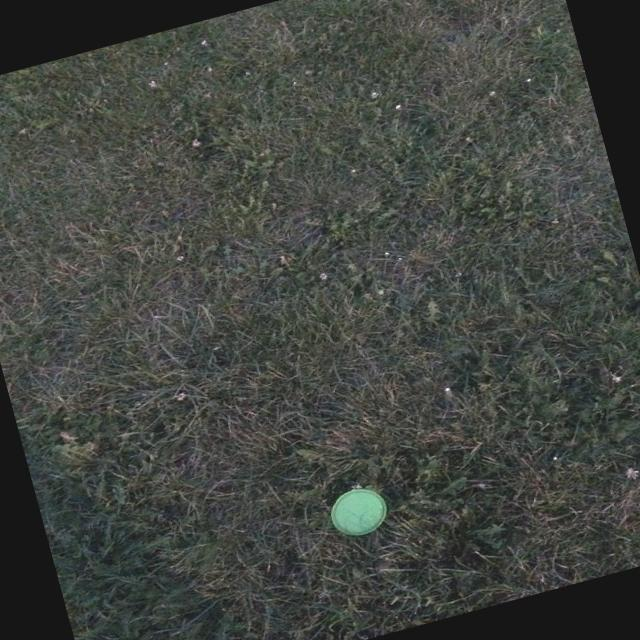Trash: (322, 477, 396, 543)
